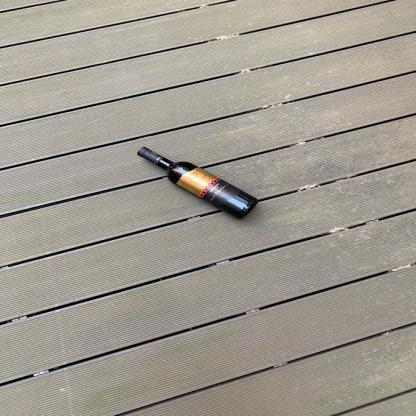trash: (135, 144, 262, 222)
